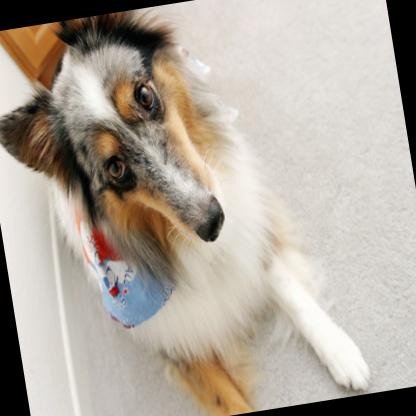Shetland_sheepdog: (0, 0, 371, 416)
